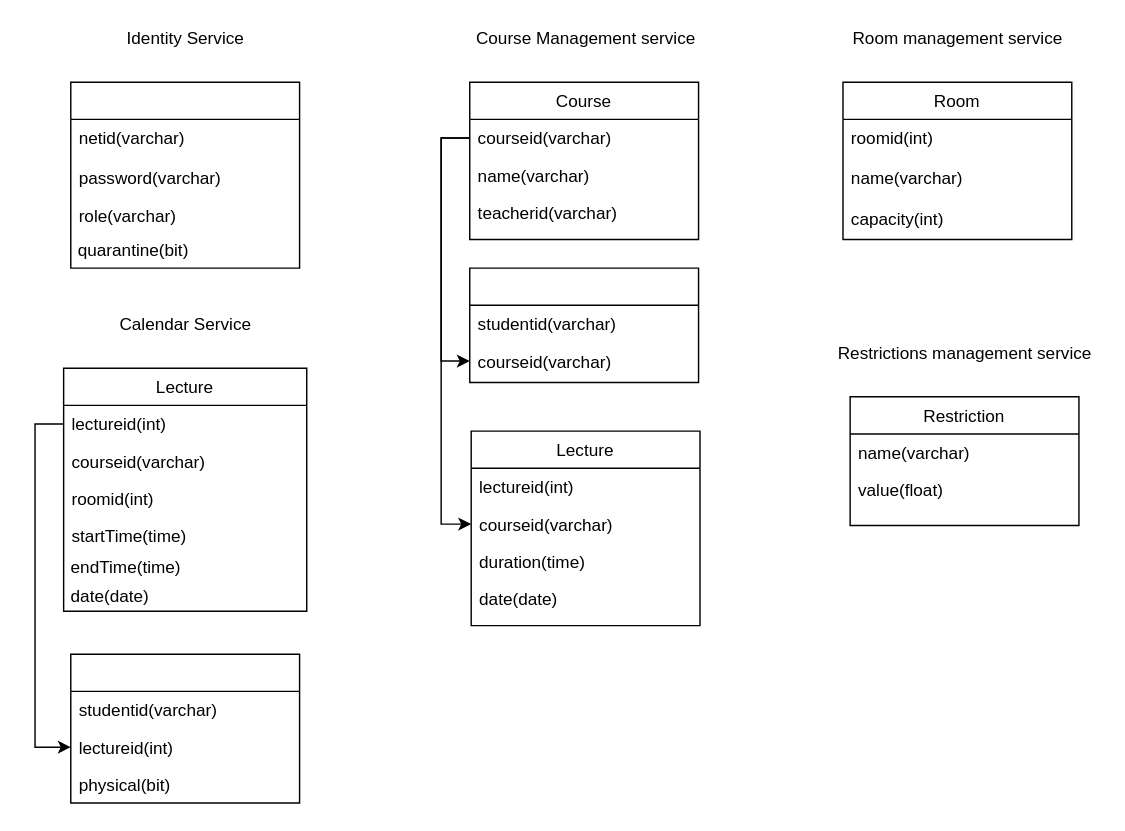
Some shapes in this 1125 by 831 pixel diagram are drawn without their labels. The shapes that lost their labels are listed below. From the top down, each one's box as (x1, y1, x2, y2) in pixels, then its label:
(69, 81, 300, 268): User
(468, 267, 699, 383): Enrollment
(69, 653, 300, 803): Attendance
